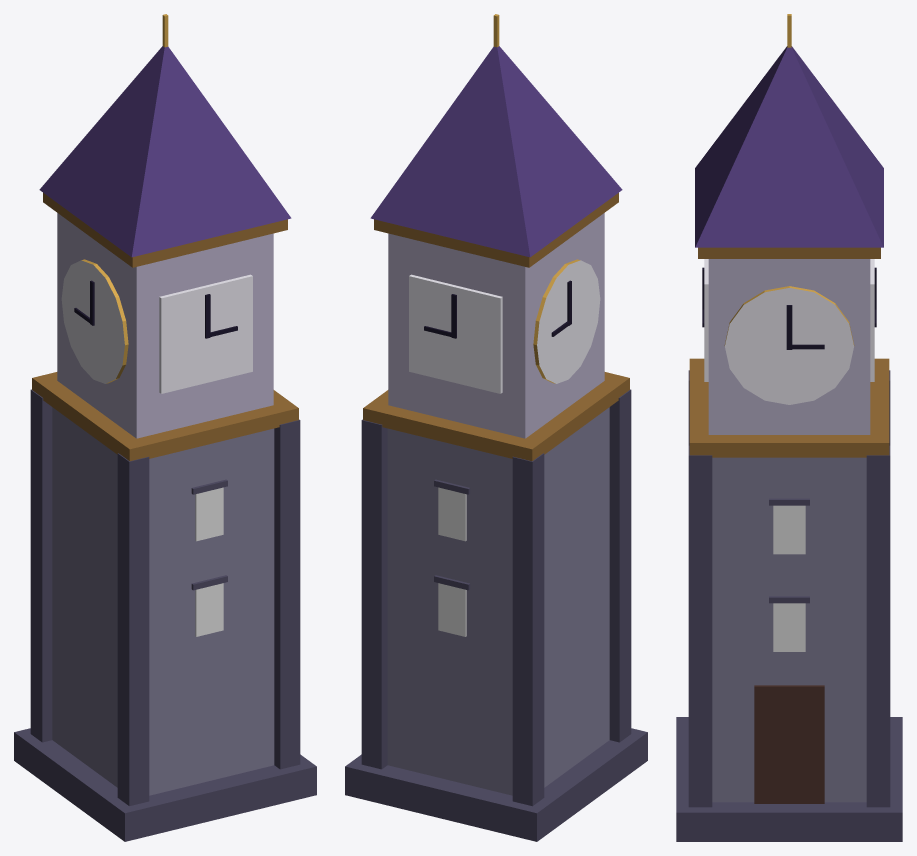
Rendered from Set_ClockTower.fbx.
3 renders of one model, left to right at view 1: azimuth 30°, elevation 25°; view 2: azimuth 150°, elevation 25°; view 3: azimuth 270°, elevation 25°, orthographic. The views are drawn at different scales.
Parts seen in each view (by area): view 1: Set_ClockTower; view 2: Set_ClockTower; view 3: Set_ClockTower.
Part boxes in pixels (left/top/right/bottom): Set_ClockTower: left=14, top=14, right=316, bottom=841; Set_ClockTower: left=345, top=14, right=647, bottom=841; Set_ClockTower: left=676, top=14, right=902, bottom=841.
Size of what is drawn, in the model's own units: 4.2 by 15.95 by 4.2.
Materials: 2 (1 with a texture image).
